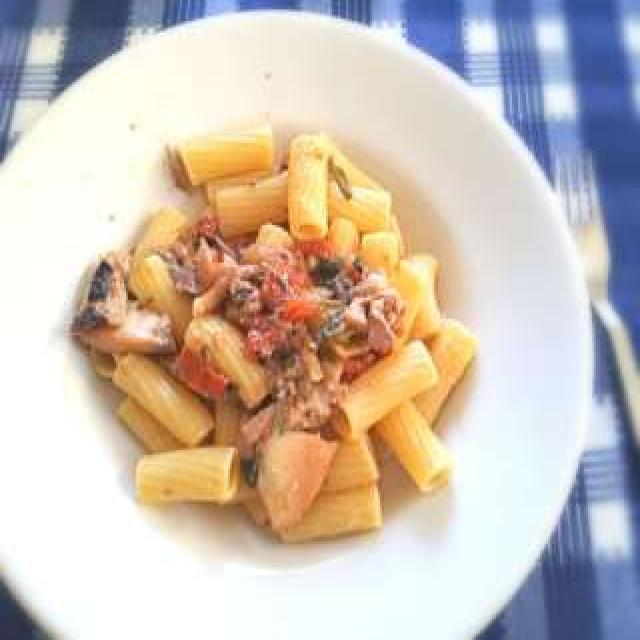Pasta al ragu: (72, 106, 504, 549)
